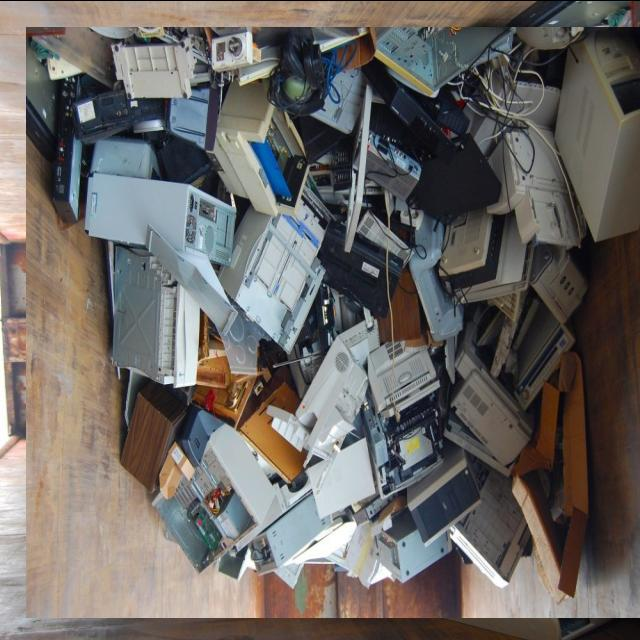garbage: (37, 14, 640, 628)
